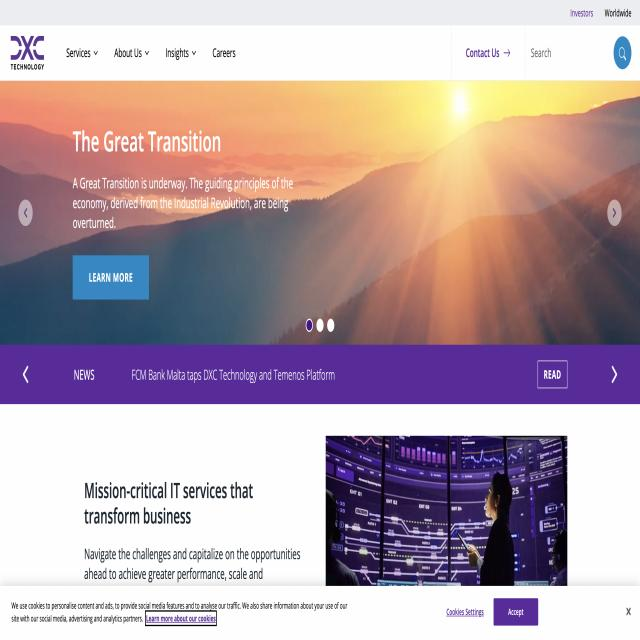Logo: (4, 24, 52, 79)
Navigation: (61, 37, 245, 72)
